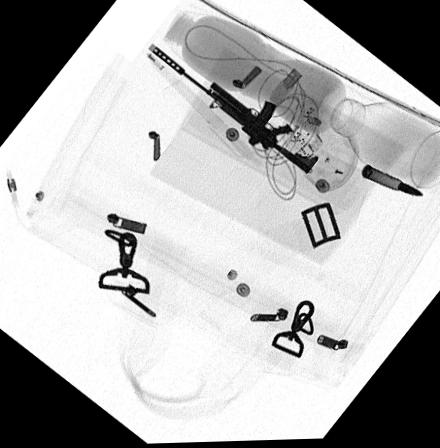Bullet: (361, 166, 425, 198)
Gun: (149, 44, 320, 175)
